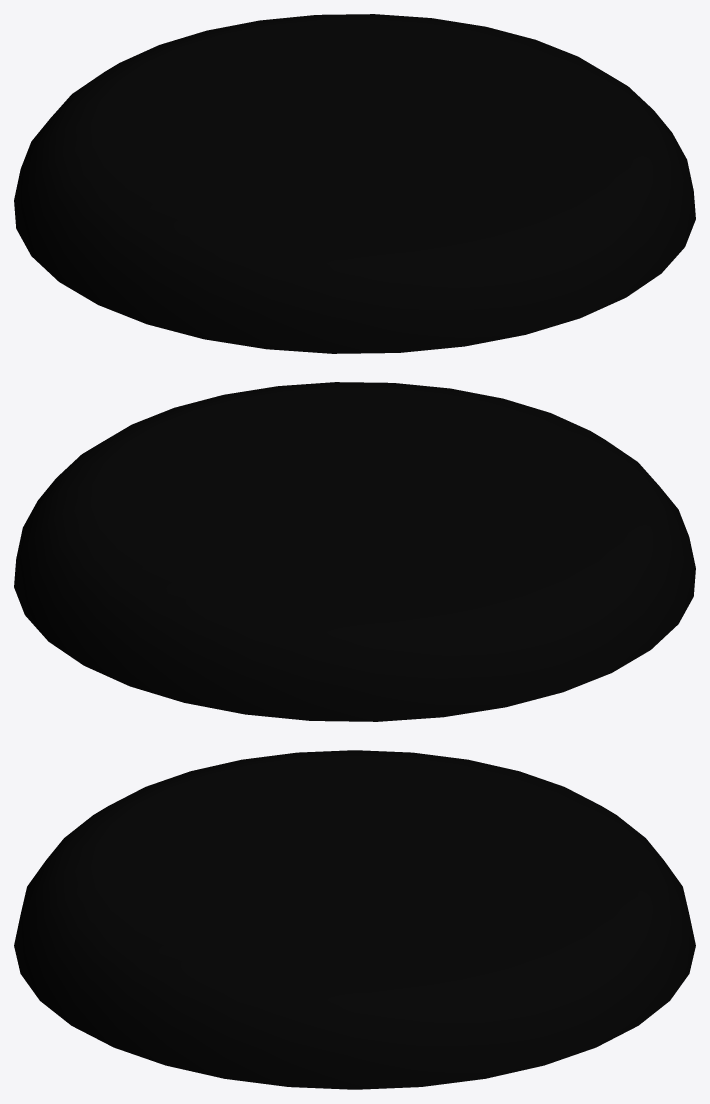
The model's file is sicbo_jump_shaker.glb.
The picture shows the model from 3 angles, top to bottom: view 1: azimuth 30°, elevation 25°; view 2: azimuth 150°, elevation 25°; view 3: azimuth 270°, elevation 25°; orthographic projection.
Visible parts, largest first — view 1: Plate1; view 2: Plate1; view 3: Plate1.
Part boxes in pixels (x1,y1,x2,y2): Plate1: (14, 14, 695, 353); Plate1: (14, 382, 695, 721); Plate1: (14, 750, 695, 1089).
Size of the model in its own units: 0.9115 by 0.1162 by 0.9115.
Materials: 1 (1 with a texture image).
